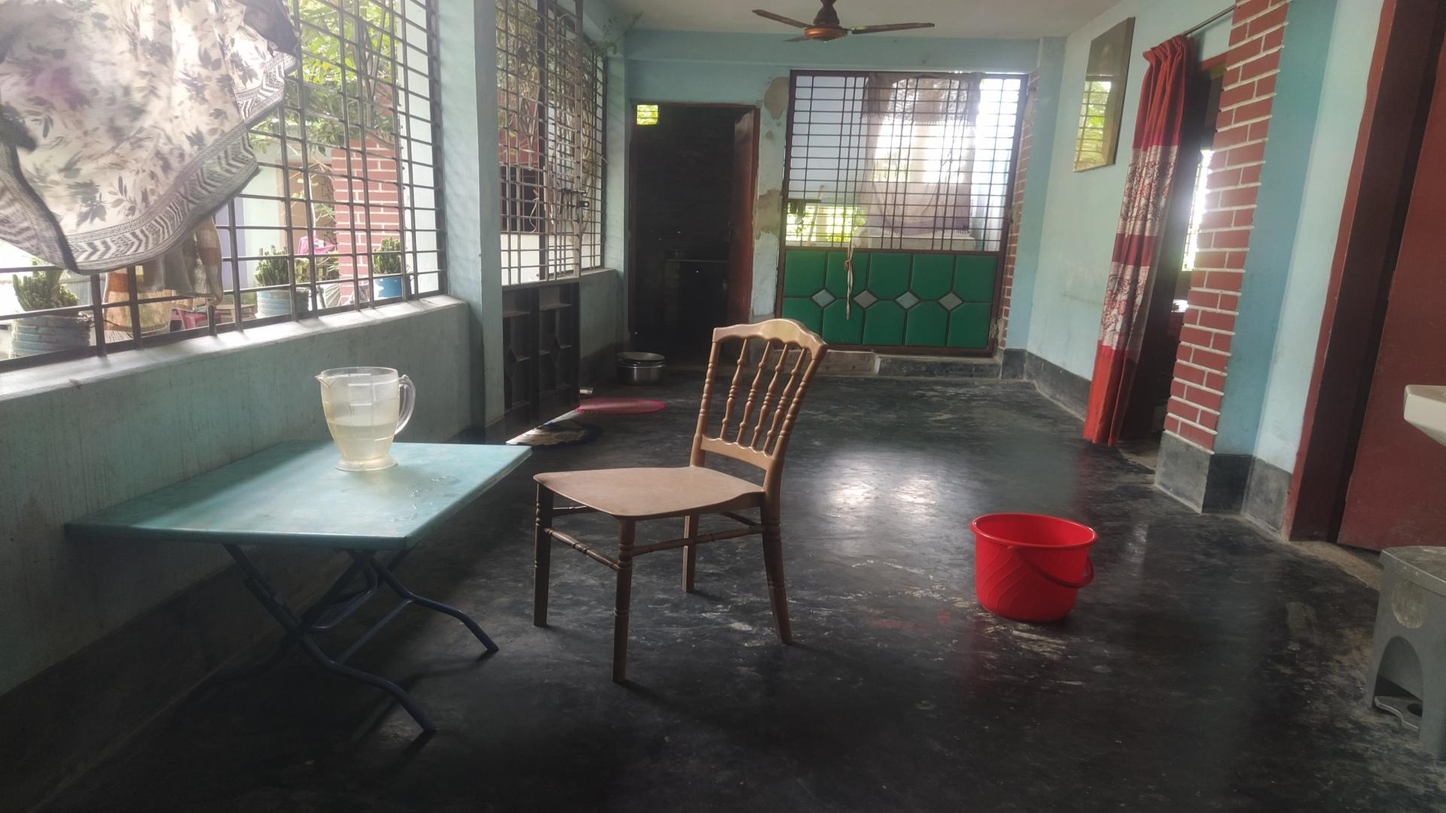Bucket: (972, 512, 1093, 618)
Chair: (532, 333, 830, 688)
Door: (789, 69, 1001, 353), (627, 96, 752, 373)
Jug: (315, 369, 414, 469)
Table: (64, 445, 530, 732)
